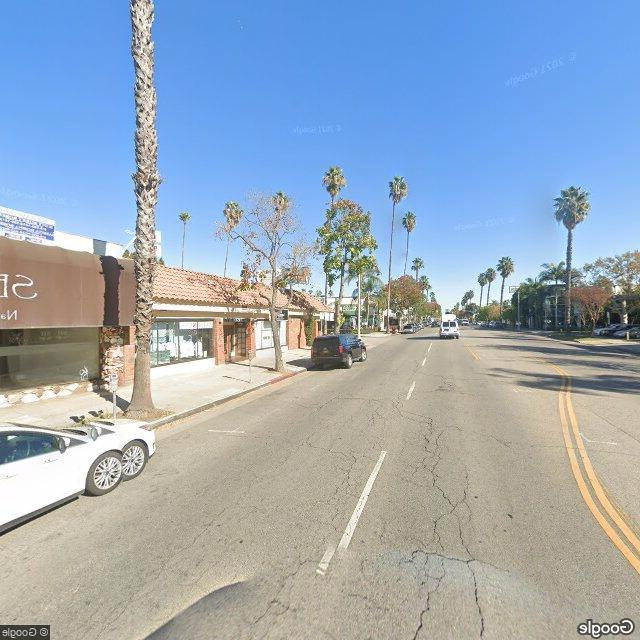crack: (277, 394, 509, 638)
